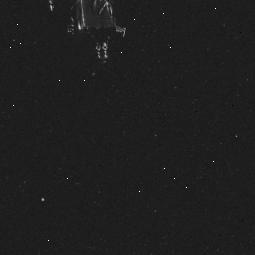lisa_pathfinder: (30, 0, 136, 77)
